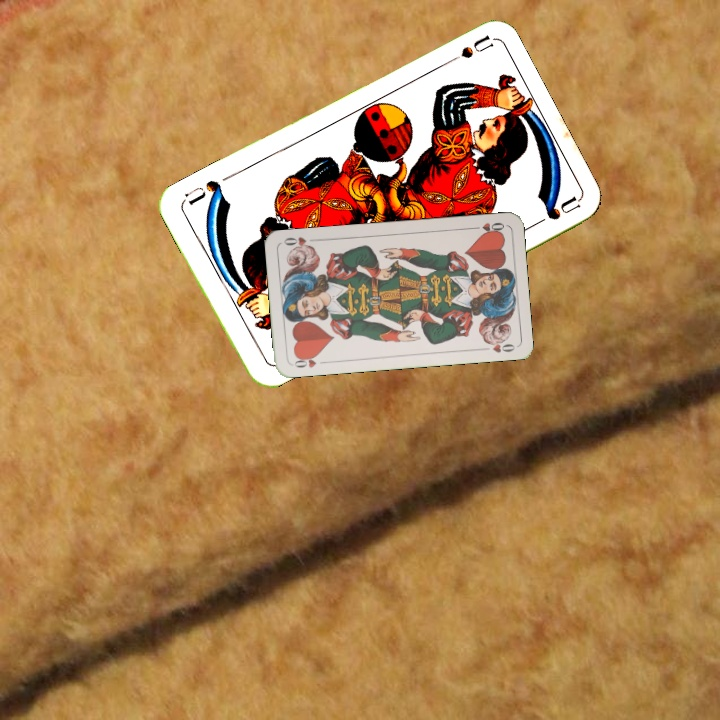HO: (467, 218, 507, 237), (290, 351, 329, 370)
SU: (437, 32, 494, 69)
